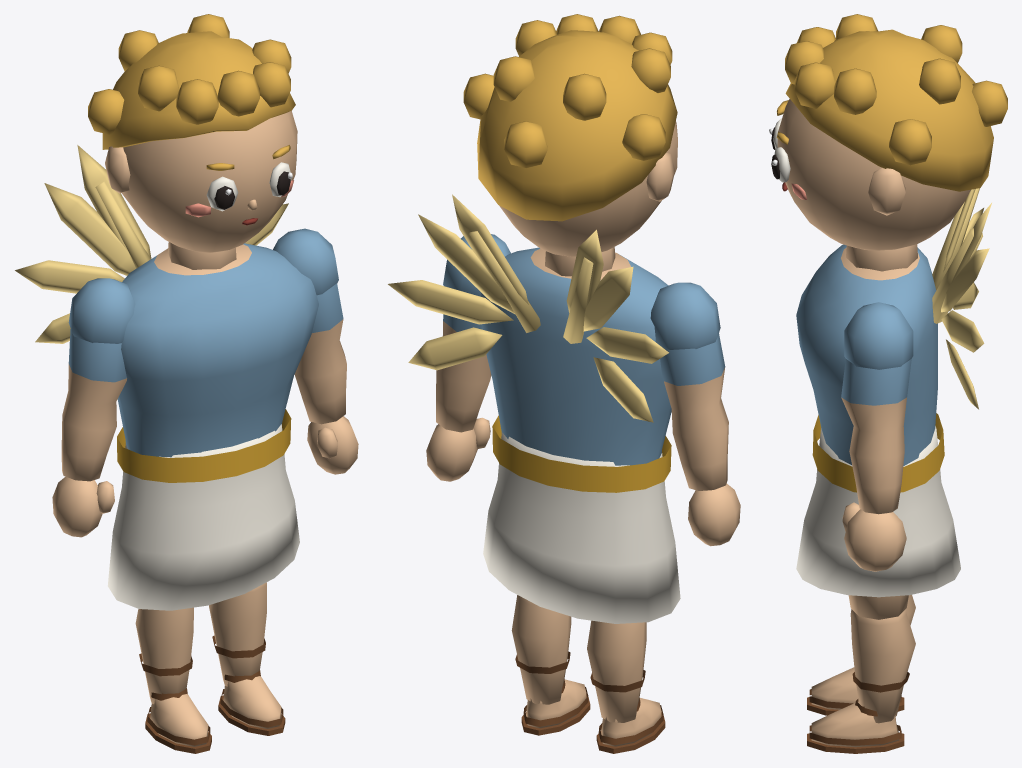
The model's file is ikarus.glb.
3 renders of one model, left to right at view 1: azimuth 30°, elevation 25°; view 2: azimuth 150°, elevation 25°; view 3: azimuth 270°, elevation 25°, orthographic. The views are drawn at different scales.
Visible parts, largest first — view 1: rumpf, huefte, haare, kopf, armL, armR, fluegelL, knieL, knieR, augeL, augeR; view 2: haare, rumpf, huefte, armL, fluegelR, fluegelL, knieL, knieR, armR, kopf; view 3: haare, rumpf, kopf, armR, huefte, knieR, fluegelR, fluegelL, knieL, beinR, augeR.
Boxes of the visible parts, x1,y1,x2,y2 form: rumpf: [117, 243, 318, 482]; huefte: [107, 424, 299, 610]; haare: [88, 14, 295, 149]; kopf: [105, 111, 297, 269]; armL: [52, 278, 135, 537]; armR: [273, 228, 358, 474]; fluegelL: [15, 145, 151, 343]; knieL: [135, 607, 211, 753]; knieR: [209, 582, 285, 735]; augeL: [206, 176, 238, 211]; augeR: [269, 162, 292, 196]; haare: [463, 14, 677, 221]; rumpf: [481, 247, 671, 492]; huefte: [483, 432, 680, 623]; armL: [650, 282, 740, 546]; fluegelR: [388, 194, 540, 370]; fluegelL: [563, 229, 668, 422]; knieL: [587, 620, 665, 753]; knieR: [511, 595, 590, 735]; armR: [426, 234, 510, 481]; kopf: [499, 121, 677, 276]; haare: [785, 14, 1007, 191]; rumpf: [796, 244, 944, 492]; kopf: [777, 99, 970, 271]; armR: [841, 302, 913, 571]; huefte: [796, 426, 960, 597]; knieR: [807, 609, 915, 753]; fluegelR: [932, 203, 991, 409]; fluegelL: [932, 188, 983, 309]; knieL: [807, 595, 915, 715]; beinR: [848, 595, 908, 619]; augeR: [771, 147, 790, 182].
Bounding box in the file's own units: 1.05 × 2.3 × 0.7242.
